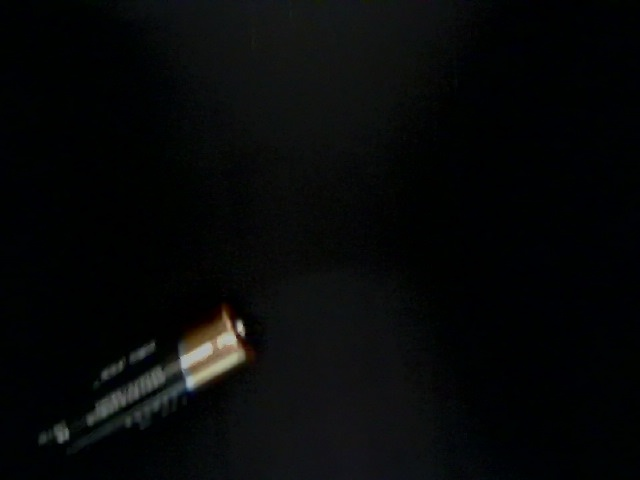QTLJ: (354, 149, 508, 346)
